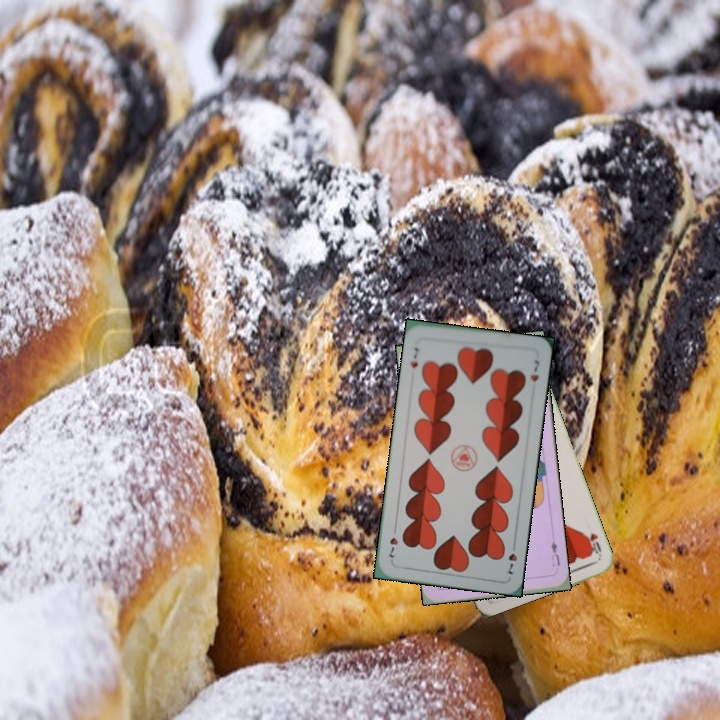EU: (547, 537, 563, 569)
H7: (504, 538, 520, 577), (406, 343, 421, 370)
HO: (580, 529, 604, 559)
